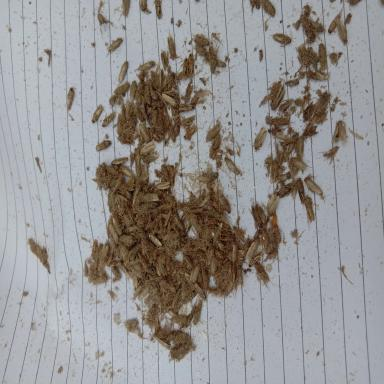pbw: (305, 173, 324, 198), (255, 261, 270, 292), (209, 40, 222, 74), (222, 155, 242, 176), (314, 90, 331, 114), (330, 119, 346, 144), (335, 17, 349, 45), (183, 124, 204, 142), (232, 264, 243, 297), (286, 132, 300, 157), (304, 195, 316, 224), (186, 299, 198, 328), (212, 200, 231, 218), (270, 31, 292, 46), (138, 117, 151, 142), (246, 237, 260, 260), (303, 113, 318, 134), (297, 44, 310, 68), (302, 18, 315, 42), (249, 204, 262, 228), (106, 38, 123, 56), (278, 181, 296, 198), (289, 156, 308, 172), (102, 107, 117, 127), (267, 193, 279, 218), (268, 80, 282, 101), (323, 146, 339, 164), (153, 333, 171, 349), (306, 46, 318, 70), (166, 27, 175, 59), (205, 124, 221, 142), (118, 0, 131, 22), (256, 201, 267, 227), (147, 303, 157, 331), (172, 341, 192, 355), (130, 102, 144, 122), (122, 205, 134, 228), (303, 101, 316, 122), (119, 164, 136, 180), (210, 133, 220, 160), (168, 342, 183, 360), (296, 177, 306, 204), (90, 104, 104, 123), (193, 281, 207, 300), (132, 190, 144, 212), (296, 135, 306, 161), (164, 72, 177, 92), (182, 289, 198, 305), (178, 283, 195, 298), (261, 0, 276, 17), (128, 242, 142, 260), (112, 174, 124, 195), (254, 127, 266, 148), (118, 260, 132, 278), (157, 109, 166, 136), (112, 216, 124, 236), (64, 87, 74, 111), (135, 60, 155, 72), (117, 62, 129, 82), (113, 82, 130, 96), (233, 225, 247, 242), (309, 18, 326, 32), (165, 329, 183, 342), (270, 116, 296, 125), (198, 172, 219, 183), (152, 0, 163, 21), (150, 215, 162, 234), (319, 42, 327, 70), (138, 252, 149, 272), (276, 146, 286, 168), (178, 56, 188, 78), (135, 122, 145, 144), (189, 263, 200, 283), (109, 222, 119, 244), (96, 256, 108, 274), (270, 158, 278, 185), (172, 212, 184, 230), (178, 115, 196, 127), (140, 141, 155, 155), (249, 252, 263, 267), (310, 70, 329, 81), (193, 33, 209, 46), (176, 202, 192, 215), (114, 193, 122, 219), (178, 268, 191, 284), (107, 188, 115, 214), (278, 97, 294, 110), (160, 299, 172, 316), (163, 191, 175, 208), (161, 94, 178, 106), (132, 283, 144, 300), (302, 126, 319, 138), (170, 260, 180, 280), (167, 314, 187, 324), (194, 300, 202, 325), (97, 5, 107, 25), (148, 232, 162, 246), (148, 128, 162, 142), (195, 44, 209, 58), (155, 89, 167, 105), (120, 234, 136, 246), (138, 285, 150, 301), (146, 286, 158, 302), (96, 140, 112, 152), (272, 130, 291, 140), (273, 223, 282, 244), (220, 195, 231, 212), (162, 69, 170, 92), (262, 250, 276, 263), (142, 194, 160, 204), (219, 216, 231, 231), (198, 194, 210, 209), (163, 208, 172, 228), (117, 135, 135, 145), (171, 107, 180, 127), (232, 234, 243, 250), (132, 182, 140, 204), (268, 126, 287, 135), (205, 247, 214, 266), (171, 289, 180, 308), (147, 83, 157, 100), (111, 244, 121, 261), (262, 226, 268, 254), (271, 232, 279, 253), (161, 48, 168, 72), (229, 263, 237, 284), (130, 80, 138, 101), (214, 222, 222, 243), (116, 112, 123, 136), (279, 138, 295, 148), (224, 282, 234, 298), (206, 181, 216, 197), (92, 275, 108, 285), (188, 52, 194, 78), (201, 266, 208, 288), (122, 123, 136, 134), (125, 97, 132, 119), (194, 90, 211, 99), (143, 154, 160, 163), (207, 287, 224, 296), (184, 251, 193, 268), (168, 124, 176, 143), (119, 320, 138, 328), (243, 236, 251, 254), (177, 103, 195, 111), (92, 255, 98, 279), (155, 181, 171, 190), (161, 164, 169, 182), (158, 260, 167, 276), (214, 248, 225, 261), (88, 270, 98, 284), (135, 86, 142, 106), (111, 266, 121, 280), (120, 98, 126, 121), (104, 174, 112, 191), (100, 243, 109, 258), (120, 182, 135, 191), (148, 270, 159, 282), (154, 312, 160, 334), (158, 66, 164, 88), (106, 165, 118, 176), (35, 244, 43, 260), (112, 157, 128, 165), (92, 239, 98, 260), (134, 155, 140, 176), (121, 244, 128, 262), (180, 241, 192, 251), (169, 164, 174, 187), (269, 228, 275, 247), (144, 85, 150, 104), (28, 238, 36, 252), (218, 235, 234, 242), (157, 204, 171, 212), (167, 308, 178, 318), (182, 202, 197, 209), (189, 208, 204, 215), (284, 80, 299, 87), (218, 238, 225, 253), (154, 260, 160, 277), (211, 257, 217, 274), (162, 88, 176, 95), (165, 255, 171, 271), (125, 226, 138, 233), (136, 141, 142, 156), (132, 273, 138, 288), (216, 59, 227, 67), (130, 258, 142, 265), (107, 253, 113, 267), (233, 243, 237, 263), (174, 279, 181, 290), (186, 222, 192, 234), (190, 96, 199, 104), (175, 124, 181, 136), (254, 230, 260, 241), (236, 249, 246, 255), (181, 213, 186, 224), (160, 213, 167, 219)
